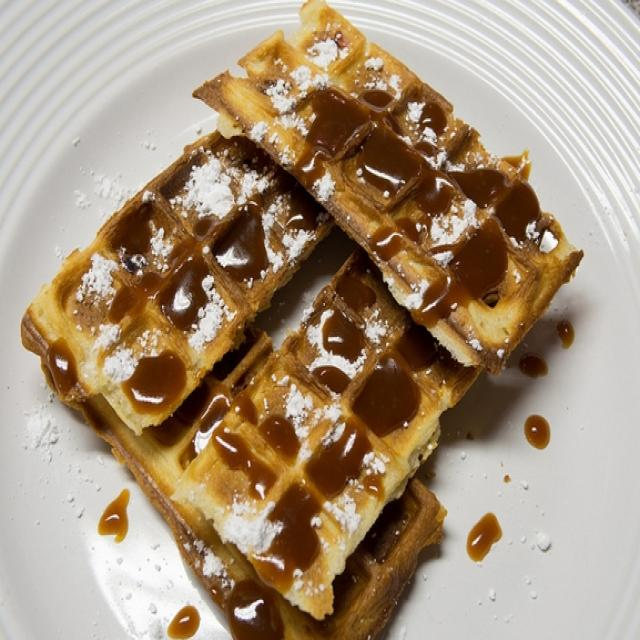炸货点心: (10, 2, 608, 631)
蛋糕甜品: (10, 2, 608, 631)
